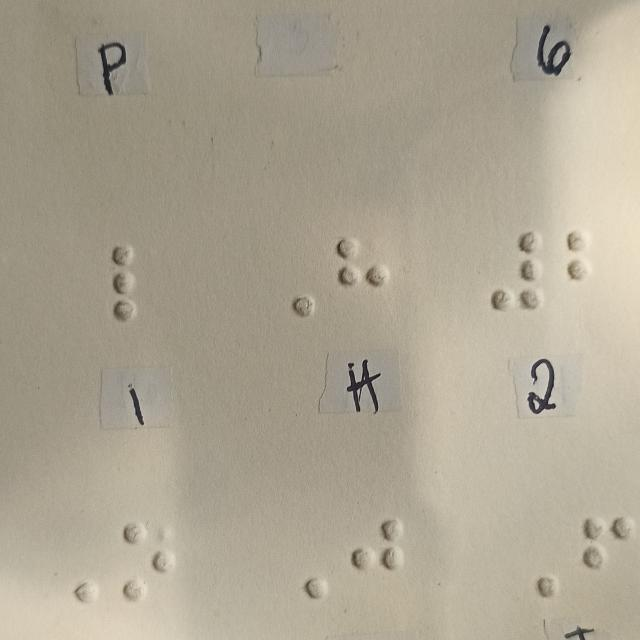capital_sign: (48, 520, 101, 604), (277, 519, 330, 602), (262, 239, 315, 318), (509, 518, 562, 597)
digit_2: (565, 232, 618, 311)
letter_F: (582, 517, 635, 601)
letter_H: (335, 238, 388, 317)
letter_J: (352, 518, 405, 602)
letter_O: (122, 520, 175, 599)
letter_l: (112, 245, 165, 324)
number_sign: (491, 234, 544, 313)
